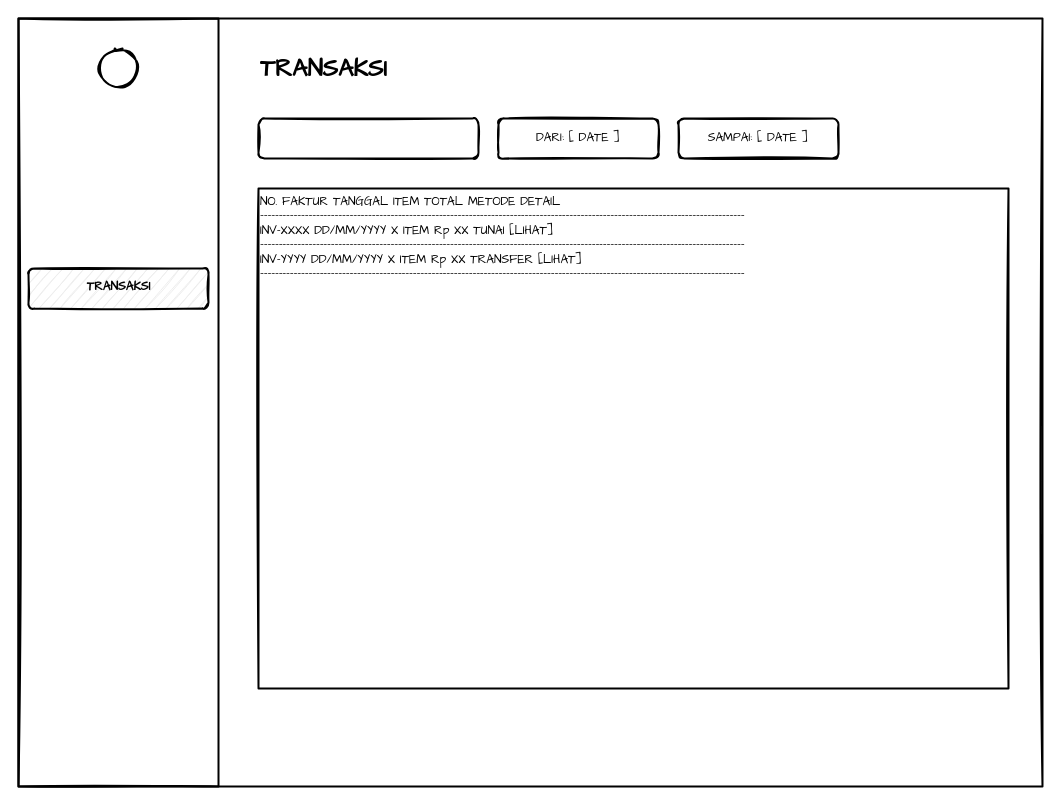
The diagram is 1060 pixels wide and 804 high, and some of its shapes have lost their labels. Each missing label, with the centre of its shape:
"CARI FAKTUR..." belongs at (368,138).
"LOGO" belongs at (118,68).
